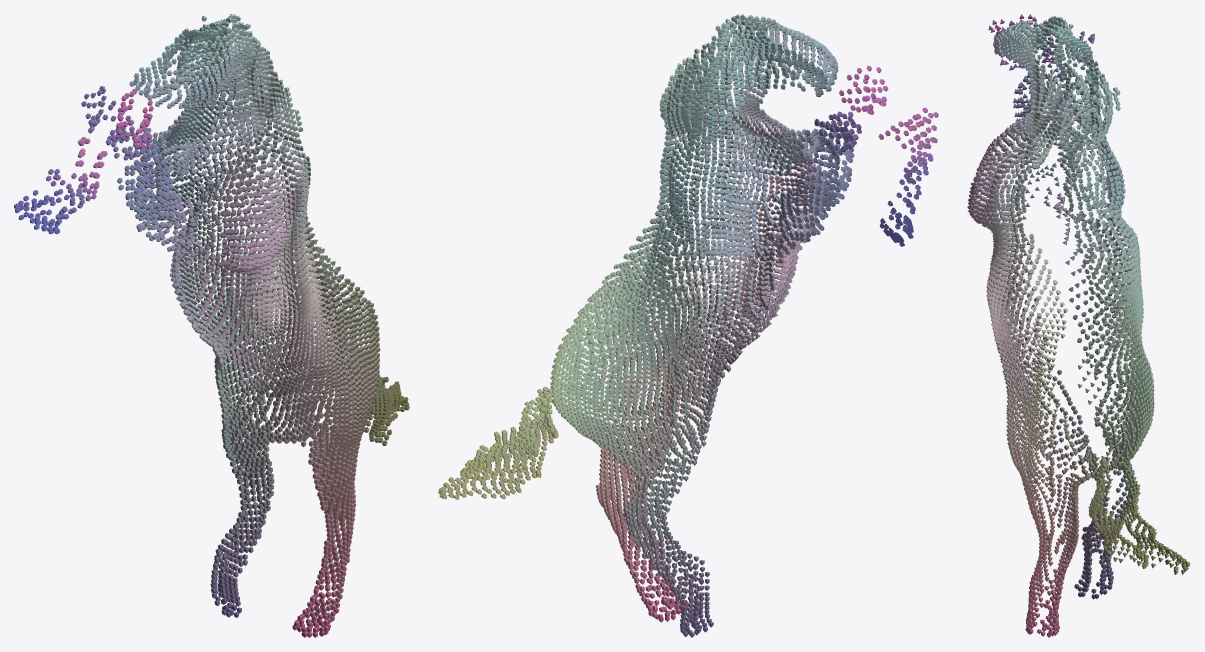
Rendered from 2008_003018_1_pcan.glb.
The picture shows the model from 3 angles, left to right: view 1: azimuth 30°, elevation 25°; view 2: azimuth 150°, elevation 25°; view 3: azimuth 270°, elevation 25°; orthographic projection. The views are drawn at different scales.
Parts seen in each view (by area): view 1: target; view 2: target; view 3: target.
Boxes of the visible parts, x1=… form: target: x1=14, y1=14, x2=409, y2=637; target: x1=438, y1=14, x2=938, y2=637; target: x1=967, y1=14, x2=1190, y2=637.
Size of the model in its own units: 2.21 by 3.14 by 1.11.
